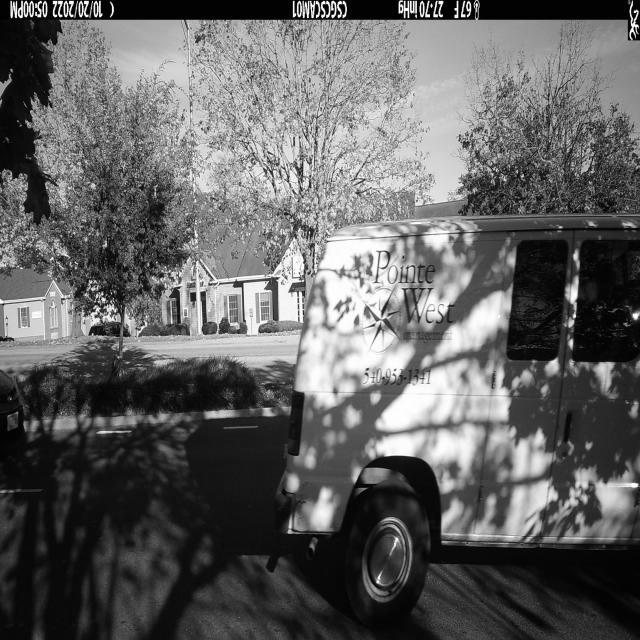Van: (275, 214, 640, 632)
